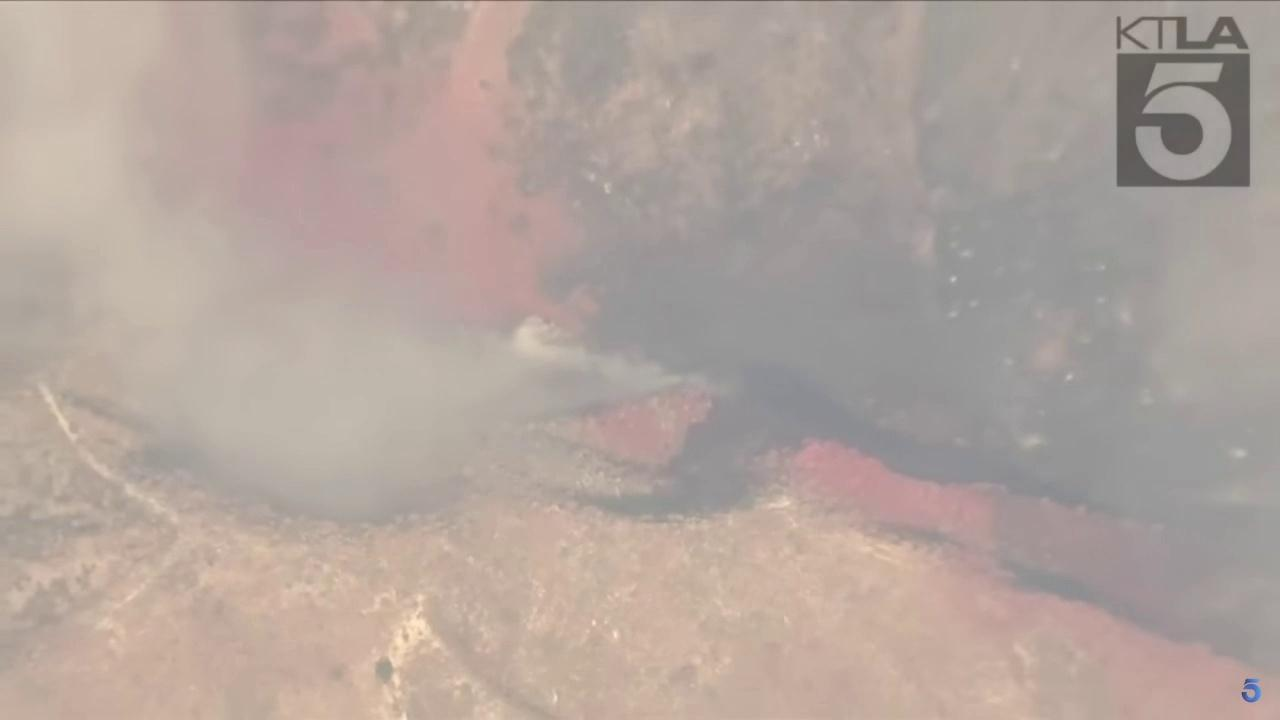smoke: (0, 0, 692, 529)
